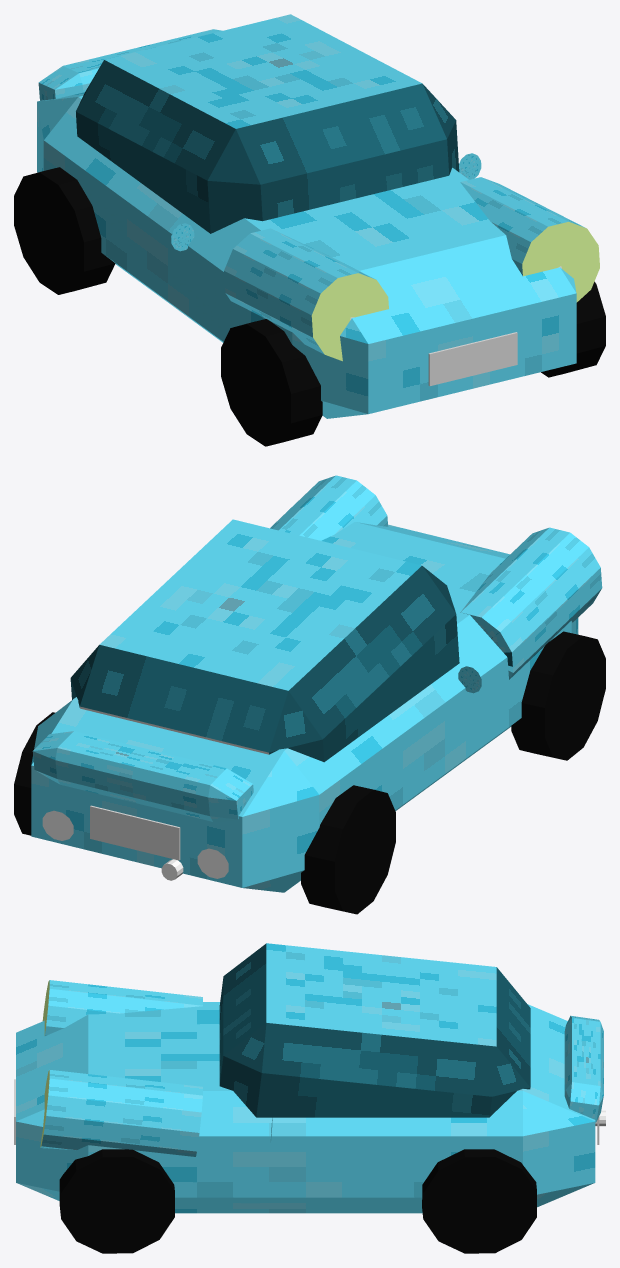
The model's file is porsche911.gltf.
3 renders of one model, top to bottom at view 1: azimuth 30°, elevation 25°; view 2: azimuth 150°, elevation 25°; view 3: azimuth 270°, elevation 25°, orthographic. The views are drawn at different scales.
Parts seen in each view (by area): view 1: beveled_cuboid (×3), cylinder (×5), Placa_frente; view 2: beveled_cuboid (×3), cylinder (×5), Placa_fundo, circle (×2); view 3: beveled_cuboid (×3), cylinder (×4).
Boxes of the visible parts, x1,y1,x2,y2 form: beveled_cuboid (×3): (37, 14, 576, 418); cylinder (×5): (14, 167, 605, 446); Placa_frente: (428, 332, 517, 386); beveled_cuboid (×3): (31, 519, 578, 892); cylinder (×5): (14, 475, 605, 914); Placa_fundo: (90, 805, 180, 860); circle (×2): (42, 810, 228, 878); beveled_cuboid (×3): (16, 943, 603, 1213); cylinder (×4): (40, 980, 536, 1253).
Bounding box in the file's own units: 1.05 × 0.7266 × 1.92.
Materials: 13 (9 with a texture image).
